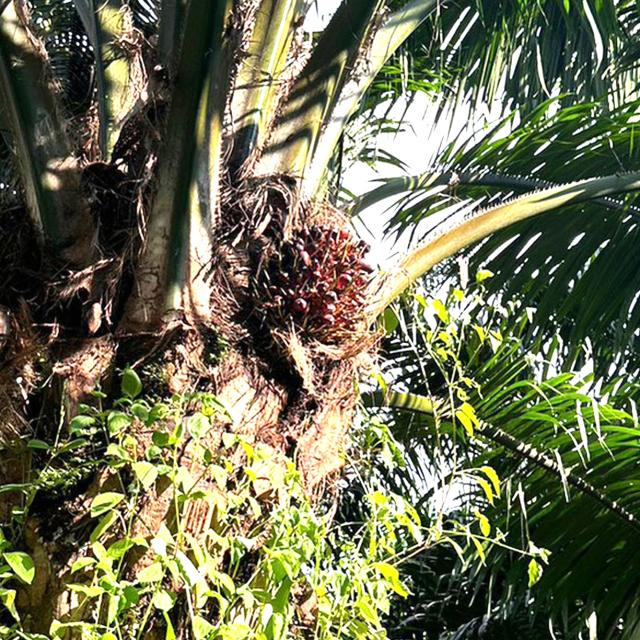almost: (260, 208, 381, 352)
